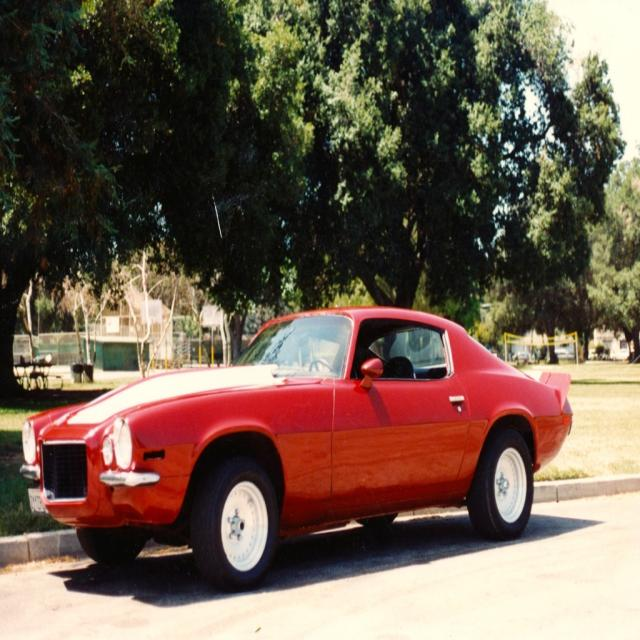car: (18, 307, 571, 588)
